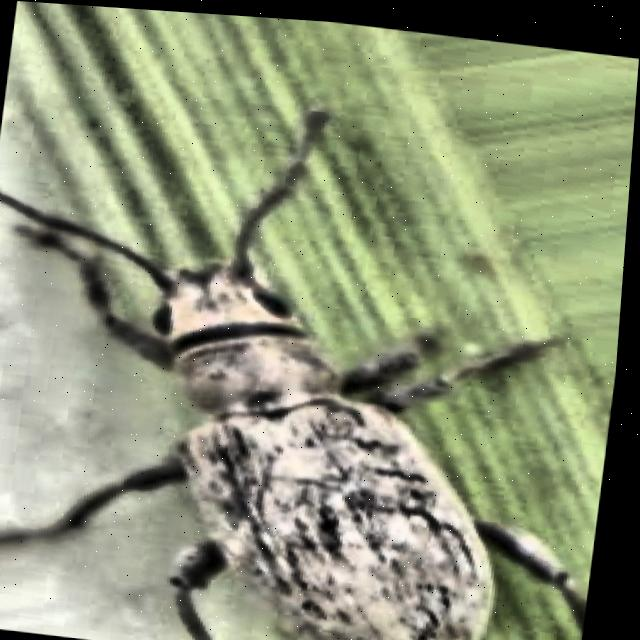Stink bug: (0, 133, 632, 640)
